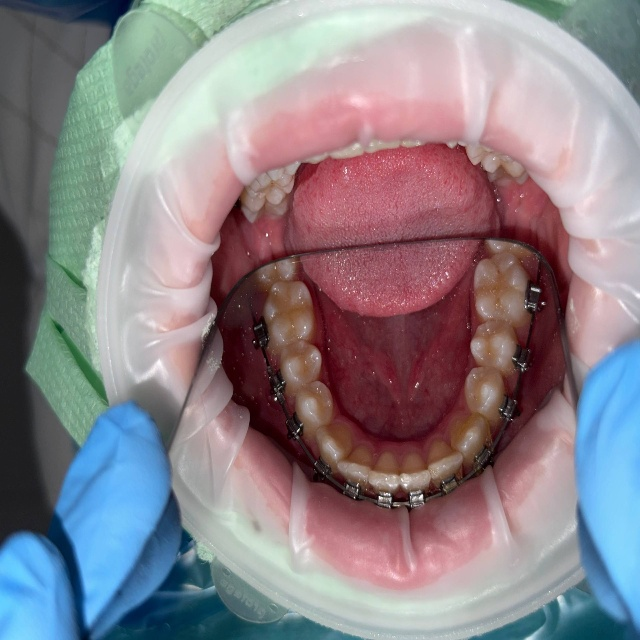plaque: (0, 400, 193, 639), (574, 337, 639, 639), (0, 0, 118, 29)
